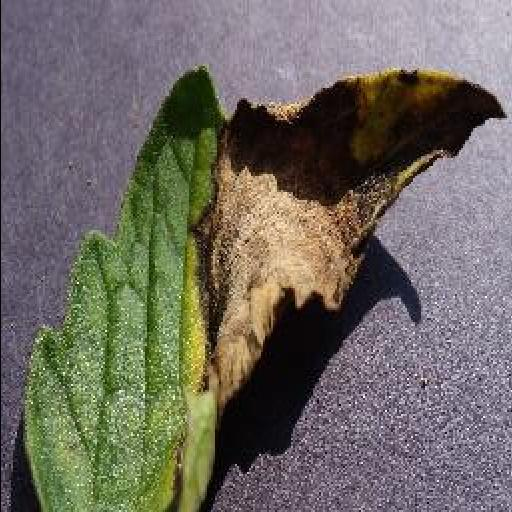disease_tomato: (20, 58, 508, 512)
